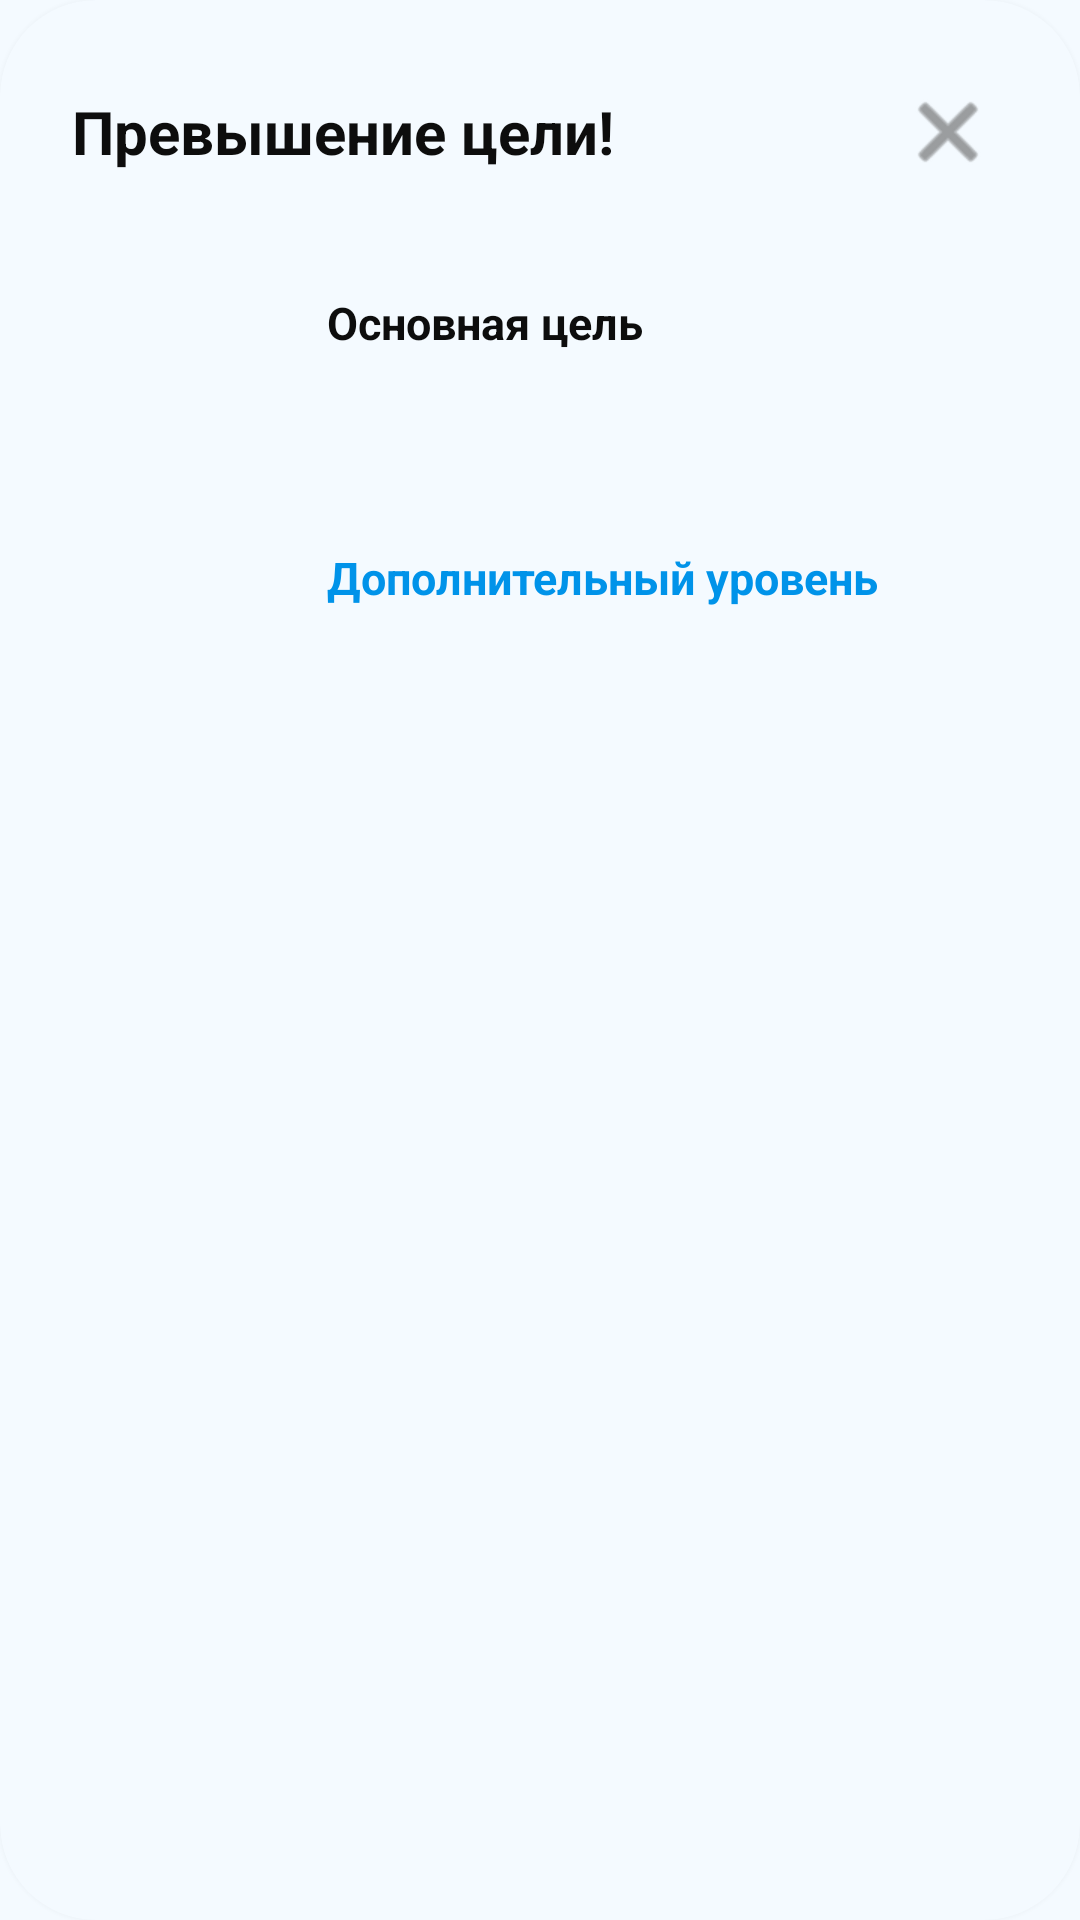

Screen size 1080px x 1920px. Icon name, then its center in pixels as [x,y]:
Close: [948,132]
